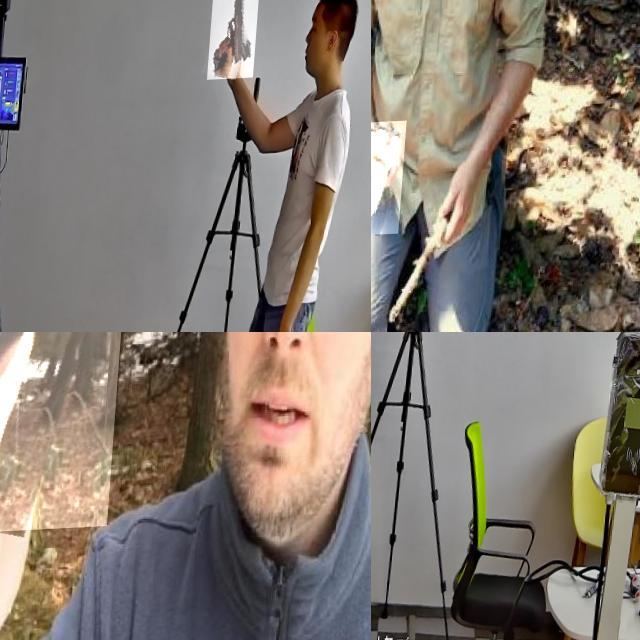-: (0, 332, 143, 582), (371, 123, 410, 238)
gun-knife-thesis - v11 Yolov5 augmented: (210, 0, 262, 82), (438, 332, 498, 375)
